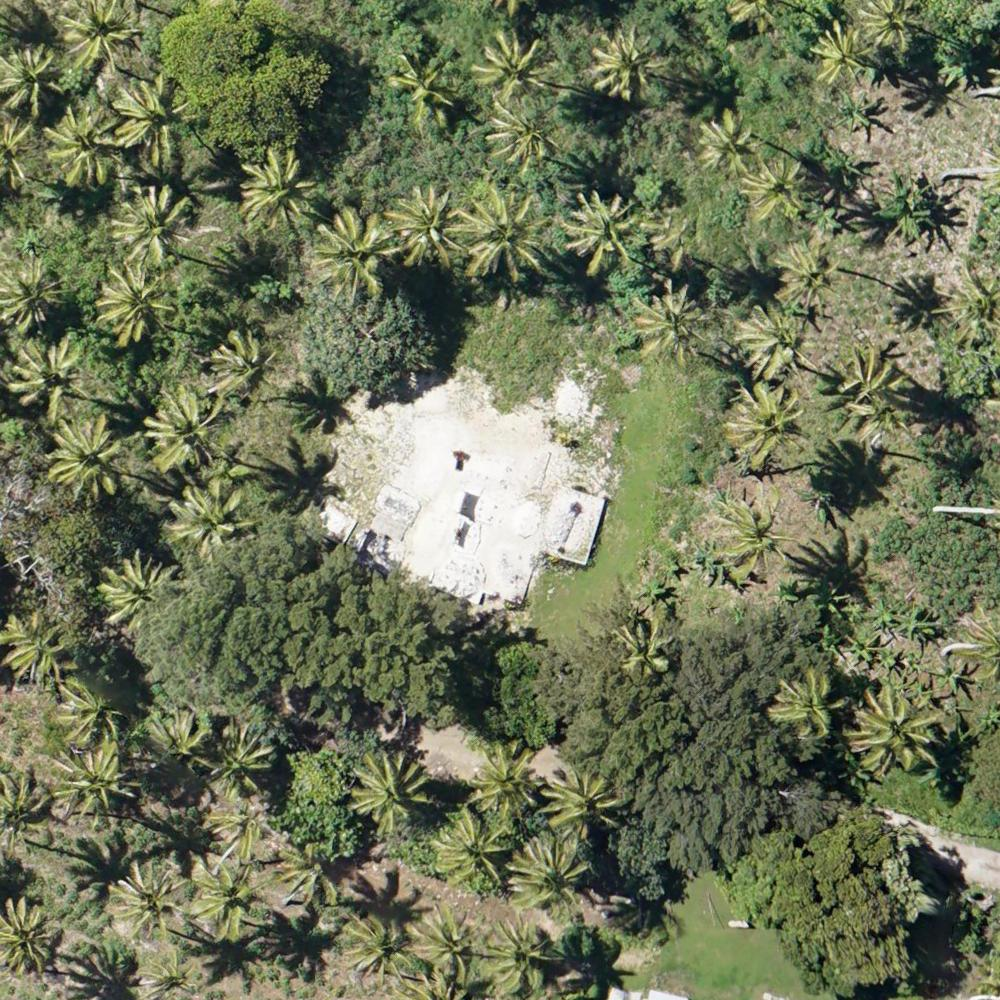Palm: (456, 182, 547, 278), (312, 207, 393, 304), (351, 748, 434, 835), (853, 686, 936, 773), (163, 476, 247, 560), (52, 742, 139, 823), (388, 182, 466, 267), (141, 386, 217, 469), (97, 547, 173, 629), (729, 384, 805, 466), (109, 862, 188, 940), (97, 269, 180, 343), (190, 860, 268, 938), (114, 78, 190, 158), (718, 494, 790, 578), (46, 416, 120, 497), (565, 190, 637, 273), (933, 259, 1000, 348), (511, 836, 589, 912), (115, 182, 190, 261), (389, 49, 464, 126), (486, 916, 555, 998), (237, 150, 312, 225), (13, 336, 83, 416), (543, 766, 618, 840), (346, 910, 417, 988), (839, 354, 912, 428), (417, 901, 485, 979), (2, 610, 74, 683), (588, 28, 662, 99), (475, 31, 550, 101), (438, 812, 509, 885), (46, 107, 116, 181), (489, 96, 558, 171), (59, 1, 137, 66), (471, 743, 537, 819), (738, 309, 809, 379), (209, 721, 273, 796), (203, 328, 268, 401), (52, 677, 121, 745), (634, 291, 702, 360), (2, 897, 61, 974), (772, 671, 842, 735), (774, 236, 837, 307), (279, 841, 348, 905), (207, 805, 280, 864), (2, 47, 65, 114), (1, 257, 58, 330), (611, 617, 674, 680), (697, 109, 756, 173), (146, 707, 211, 764), (811, 19, 869, 82), (742, 162, 807, 218), (857, 2, 921, 51), (141, 954, 198, 1000)
